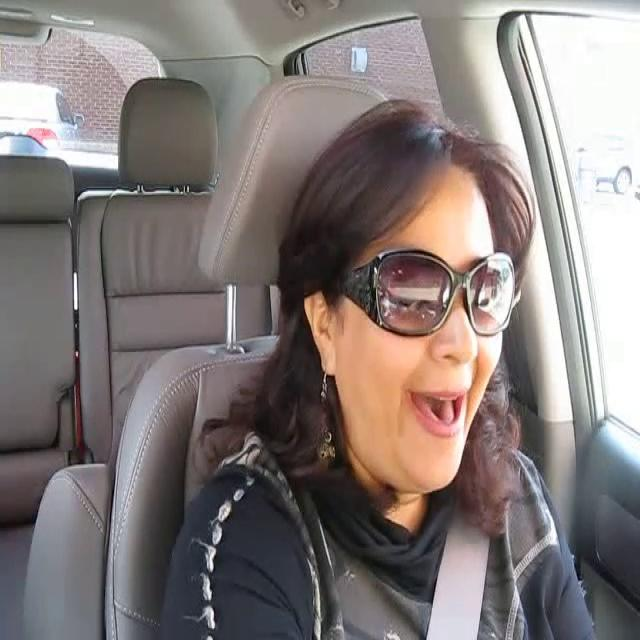open: (404, 382, 479, 443)
